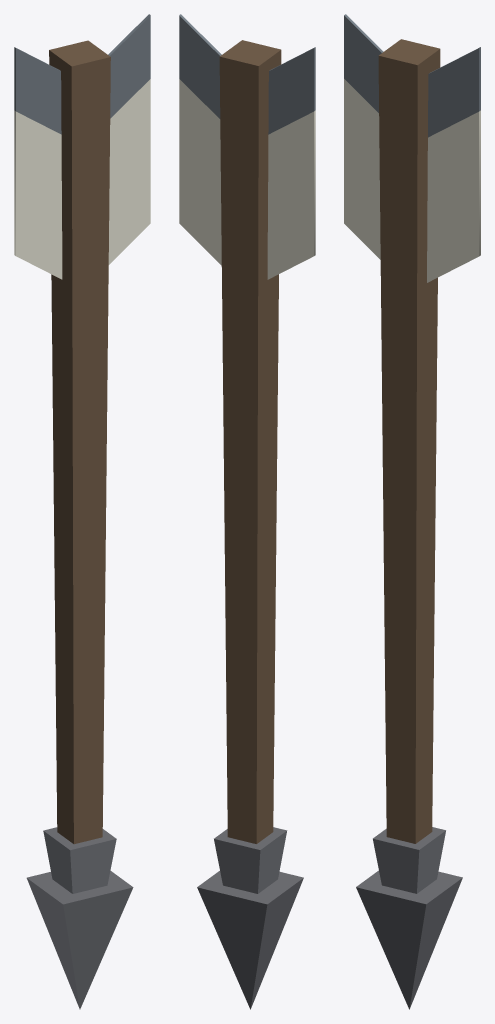
Rendered from Fleche.fbx.
3 views of the same model, side by side, from view 1: azimuth 30°, elevation 25°; view 2: azimuth 150°, elevation 25°; view 3: azimuth 330°, elevation 25° (orthographic).
Parts seen in each view (by area): view 1: Arrow_asset_Cube.001; view 2: Arrow_asset_Cube.001; view 3: Arrow_asset_Cube.001.
Boxes of the visible parts, <box> form: Arrow_asset_Cube.001: <box>14,14,150,1009</box>; Arrow_asset_Cube.001: <box>179,14,315,1009</box>; Arrow_asset_Cube.001: <box>344,14,480,1009</box>.
Size of the model in its own units: 12.8 by 88.73 by 6.02.
